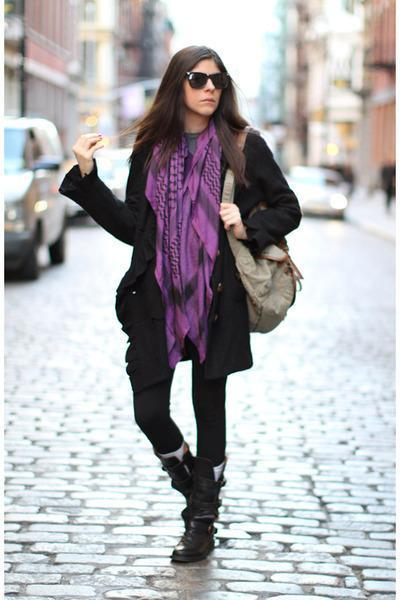bag: (204, 108, 302, 333)
jacket: (60, 133, 299, 371)
shoe: (159, 444, 226, 565)
skirt: (126, 348, 234, 462)
sunglass: (184, 72, 212, 90)
